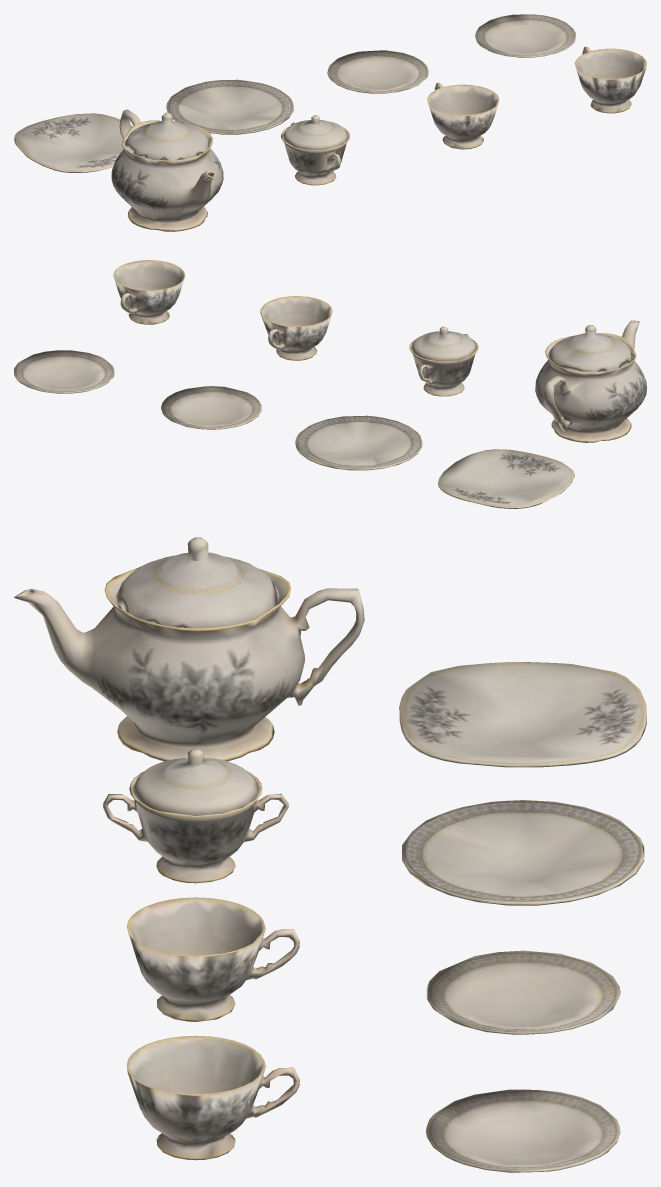
Rendered from tea_set_01.glb.
The picture shows the model from 3 angles, top to bottom: view 1: azimuth 30°, elevation 25°; view 2: azimuth 150°, elevation 25°; view 3: azimuth 270°, elevation 25°; orthographic projection. The views are drawn at different scales.
Visible parts, largest first — view 1: tea_set_01_plate_large_square_01; view 2: tea_set_01_plate_large_square_01; view 3: tea_set_01_plate_large_square_01.
Part boxes in pixels (box(x1,y1,x2,y2)): tea_set_01_plate_large_square_01: box(14, 14, 646, 231); tea_set_01_plate_large_square_01: box(14, 260, 646, 508); tea_set_01_plate_large_square_01: box(14, 537, 646, 1172).
Bounding box in the file's own units: 0.9174 × 0.165 × 0.4835.
Materials: 1 (1 with a texture image).
